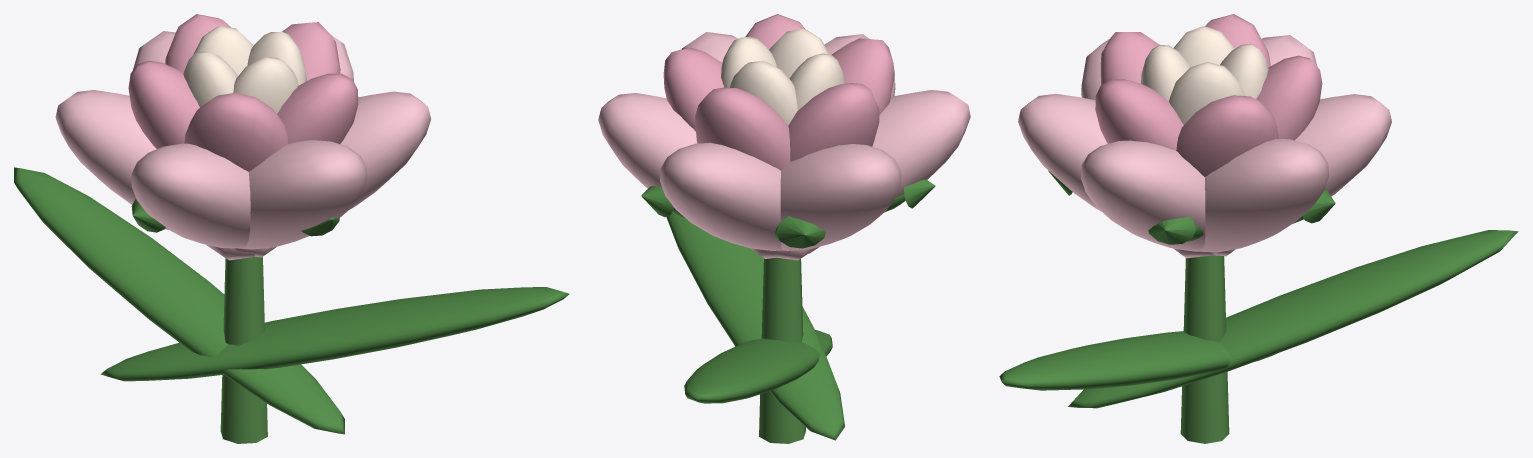
The model's file is rose-flower.glb.
3 renders of one model, left to right at view 1: azimuth 30°, elevation 25°; view 2: azimuth 150°, elevation 25°; view 3: azimuth 270°, elevation 25°, orthographic.
Parts seen in each view (by area): view 1: stemLeaf1, stemLeaf0, petal_r0_5, petal_r0_0, petal_r0_4, stem, petal_r0_1, petal_r1_4, petal_r1_3, petal_r1_0, petal_r2_3, petal_r1_1 (+6 smaller); view 2: stemLeaf0, petal_r0_3, petal_r0_4, petal_r0_5, stemLeaf1, petal_r0_2, petal_r1_2, petal_r1_3, stem, petal_r1_1, petal_r1_4, petal_r2_1 (+7 smaller); view 3: stemLeaf1, petal_r0_2, petal_r0_1, stemLeaf0, stem, petal_r0_0, petal_r0_3, petal_r1_1, petal_r1_0, petal_r1_2, petal_r2_0, petal_r1_4 (+7 smaller).
Boxes of the visible parts, x1=… form: stemLeaf1: x1=14, y1=167, x2=344, y2=434; stemLeaf0: x1=100, y1=287, x2=569, y2=381; petal_r0_5: x1=131, y1=143, x2=250, y2=248; petal_r0_0: x1=239, y1=140, x2=367, y2=249; petal_r0_4: x1=55, y1=90, x2=156, y2=204; stem: x1=220, y1=257, x2=267, y2=443; petal_r0_1: x1=340, y1=91, x2=430, y2=209; petal_r1_4: x1=184, y1=92, x2=287, y2=171; petal_r1_3: x1=128, y1=60, x2=199, y2=148; petal_r1_0: x1=277, y1=73, x2=358, y2=144; petal_r2_3: x1=233, y1=57, x2=298, y2=113; petal_r1_1: x1=282, y1=22, x2=340, y2=80; stemLeaf0: x1=666, y1=212, x2=844, y2=440; petal_r0_3: x1=660, y1=142, x2=781, y2=250; petal_r0_4: x1=780, y1=144, x2=901, y2=250; petal_r0_5: x1=872, y1=90, x2=970, y2=197; stemLeaf1: x1=684, y1=330, x2=832, y2=403; petal_r0_2: x1=598, y1=93, x2=819, y2=253; petal_r1_2: x1=695, y1=87, x2=790, y2=170; petal_r1_3: x1=788, y1=83, x2=879, y2=161; stem: x1=759, y1=257, x2=805, y2=443; petal_r1_1: x1=663, y1=47, x2=723, y2=131; petal_r1_4: x1=831, y1=38, x2=894, y2=115; petal_r2_1: x1=729, y1=61, x2=797, y2=125; stemLeaf1: x1=1068, y1=230, x2=1518, y2=408; petal_r0_2: x1=1194, y1=139, x2=1328, y2=252; petal_r0_1: x1=1081, y1=140, x2=1205, y2=251; stemLeaf0: x1=999, y1=331, x2=1276, y2=390; stem: x1=1180, y1=255, x2=1229, y2=443; petal_r0_0: x1=1018, y1=93, x2=1107, y2=211; petal_r0_3: x1=1295, y1=94, x2=1391, y2=196; petal_r1_1: x1=1176, y1=95, x2=1278, y2=176; petal_r1_0: x1=1095, y1=79, x2=1183, y2=150; petal_r1_2: x1=1256, y1=55, x2=1322, y2=140; petal_r2_0: x1=1169, y1=62, x2=1244, y2=124; petal_r1_4: x1=1100, y1=32, x2=1159, y2=84.
Size of the model in its own units: 0.2792 by 0.2818 by 0.3416.
